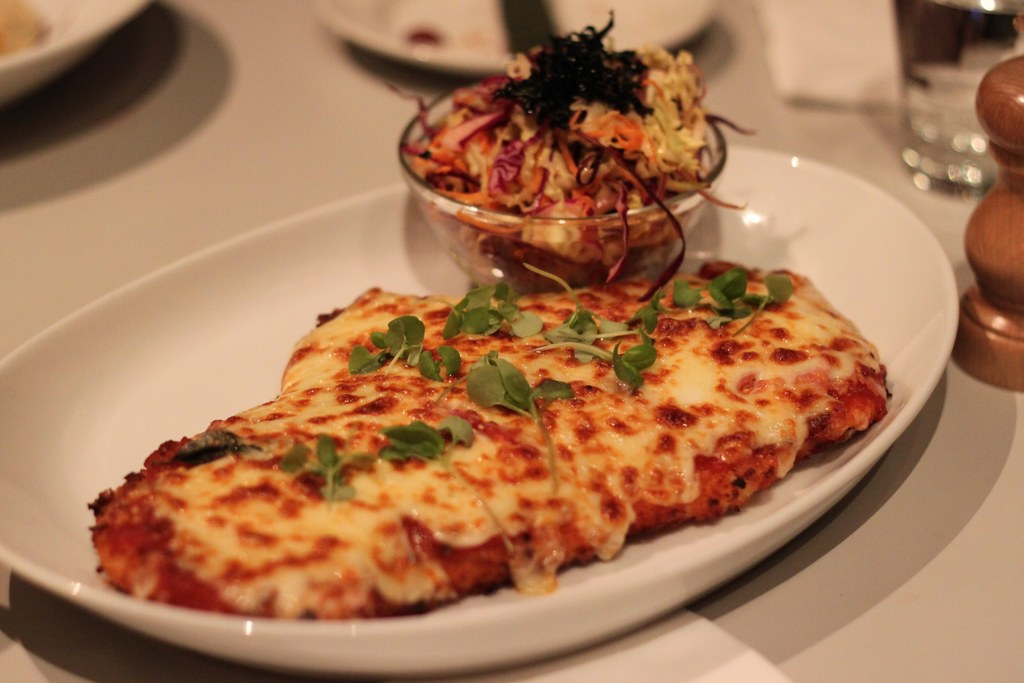Pizza: (213, 251, 888, 563)
